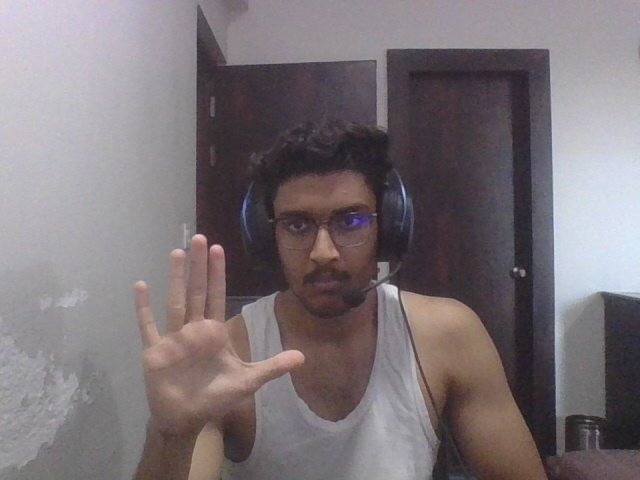Hello: (104, 230, 319, 432)
